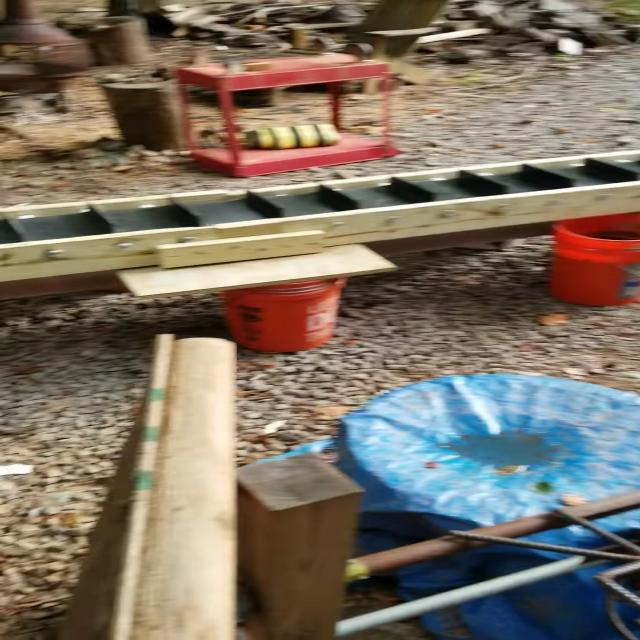Convoyeur: (0, 144, 640, 294)
